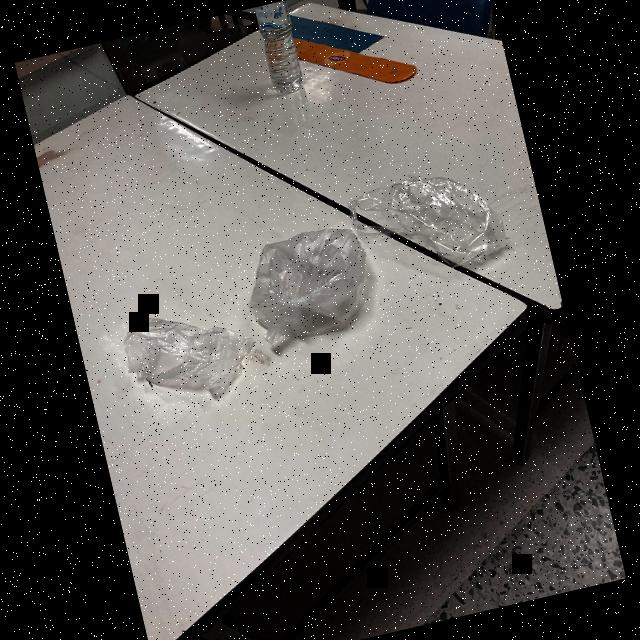plastic_bag: (96, 286, 272, 424), (230, 206, 387, 360), (370, 154, 508, 272)
plastic_bottle: (248, 0, 310, 95)
